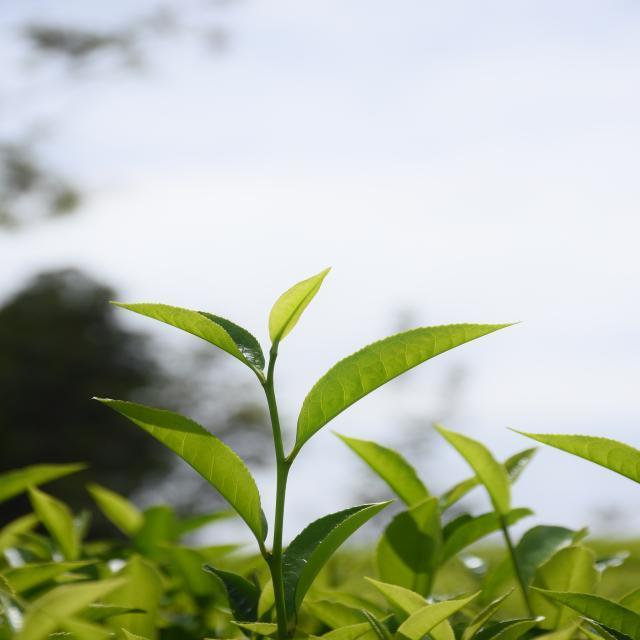Stem: (277, 459, 287, 477)
